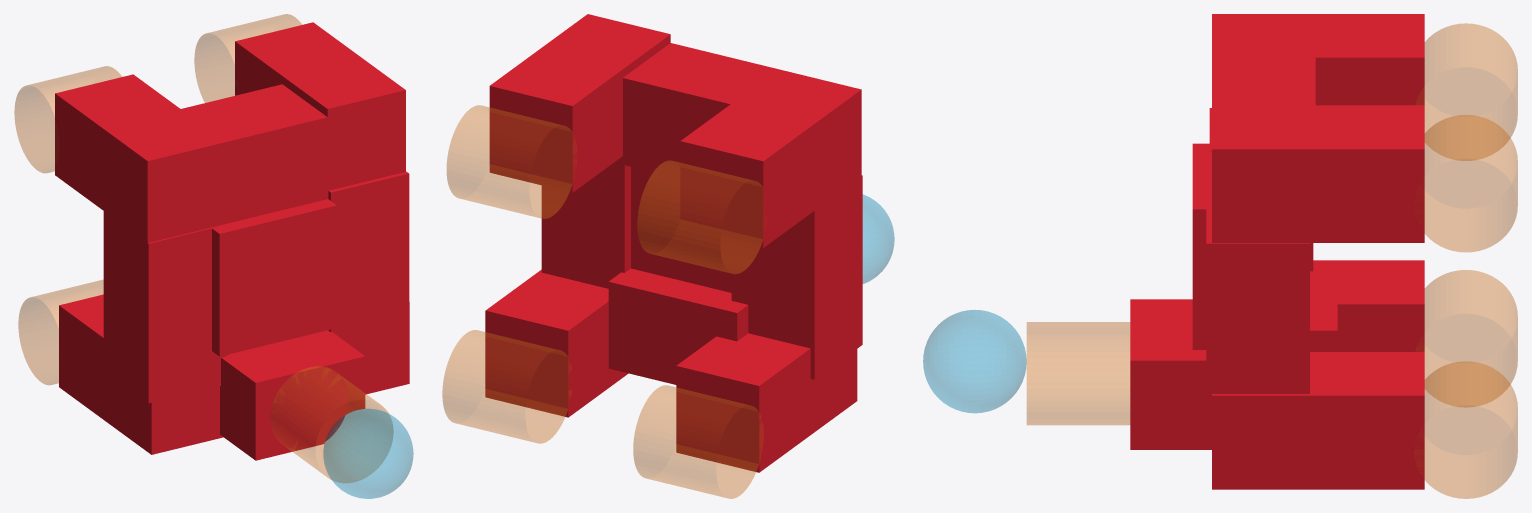
File: tinker.obj
3 views of the same model, side by side, from view 1: azimuth 30°, elevation 25°; view 2: azimuth 150°, elevation 25°; view 3: azimuth 270°, elevation 25° (orthographic). The views are drawn at different scales.
Parts seen in each view (by area): view 1: obj_4, obj_8, obj_12, obj_11, obj_13, obj_6, obj_10, obj_0, obj_14, obj_15, obj_5, obj_1 (+2 smaller); view 2: obj_4, obj_6, obj_0, obj_8, obj_2, obj_11, obj_1, obj_7, obj_3, obj_5, obj_9, obj_10 (+2 smaller); view 3: obj_6, obj_2, obj_10, obj_4, obj_3, obj_5, obj_1, obj_7, obj_13, obj_14, obj_15, obj_0 (+3 smaller).
Part boxes in pixels (x1,y1,x2,y2): obj_4: (55,74,225,242); obj_8: (103,211,226,403); obj_12: (212,199,336,356); obj_11: (166,84,350,226); obj_13: (220,330,365,460); obj_6: (235,22,405,184); obj_10: (328,171,409,340); obj_0: (59,294,229,454); obj_14: (270,366,393,482); obj_15: (323,409,413,498); obj_5: (14,66,121,172); obj_1: (18,280,103,384); obj_4: (680,69,861,247); obj_6: (489,14,670,192); obj_0: (676,333,857,472); obj_8: (731,175,862,379); obj_2: (485,269,628,417); obj_11: (614,43,793,178); obj_1: (633,385,763,498); obj_7: (447,105,576,218); obj_3: (442,330,571,443); obj_5: (637,160,763,273); obj_9: (608,268,748,384); obj_10: (541,162,630,288); obj_6: (1212,105,1424,242); obj_2: (1212,352,1424,489); obj_10: (1206,199,1309,417); obj_4: (1212,14,1424,105); obj_3: (1414,361,1517,498); obj_5: (1416,23,1517,160); obj_1: (1416,270,1517,407); obj_7: (1418,115,1517,252); obj_13: (1130,299,1211,449); obj_14: (1027,322,1129,424); obj_15: (923,310,1026,412); obj_0: (1313,260,1424,351).
Bounding box in the file's own units: 67 × 76 × 115.
